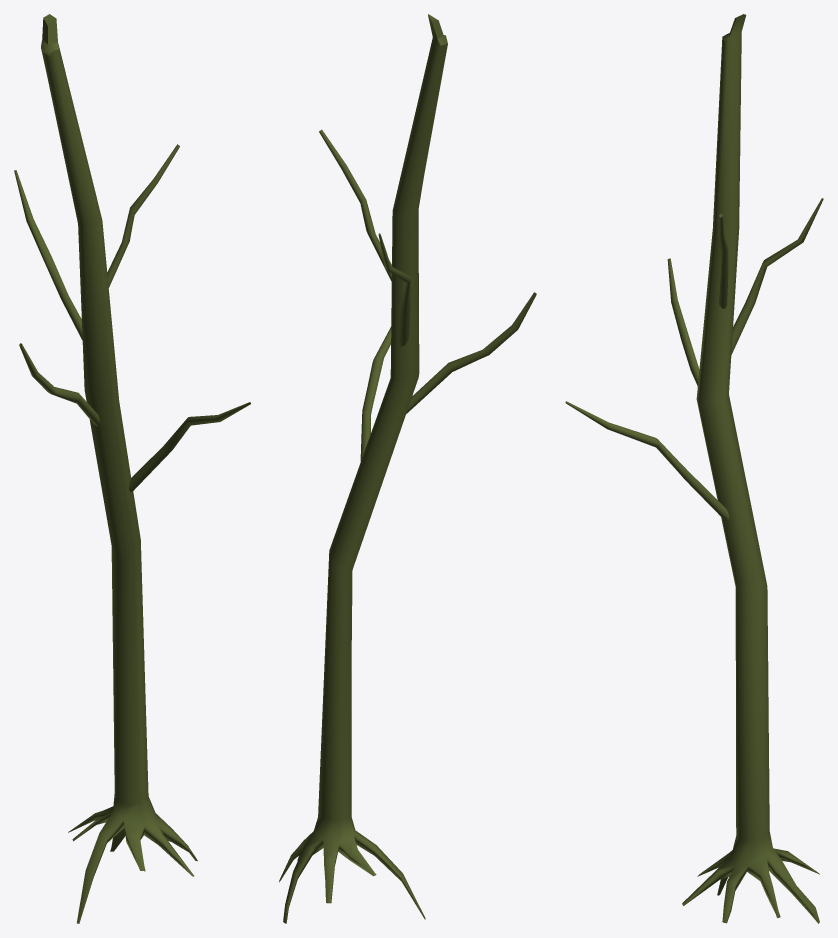
Rendered from birch_02_GEO.fbx.
3 views of the same model, side by side, from view 1: azimuth 30°, elevation 25°; view 2: azimuth 150°, elevation 25°; view 3: azimuth 270°, elevation 25° (orthographic). The views are drawn at different scales.
Visible parts, largest first — view 1: birch_02_GEO; view 2: birch_02_GEO; view 3: birch_02_GEO.
Boxes of the visible parts, box(x1,y1,x2,y2) form: birch_02_GEO: box(14, 14, 250, 923); birch_02_GEO: box(279, 14, 536, 923); birch_02_GEO: box(565, 14, 823, 923).
Size of the model in its own units: 0.00946 by 0.0397 by 0.0106.
